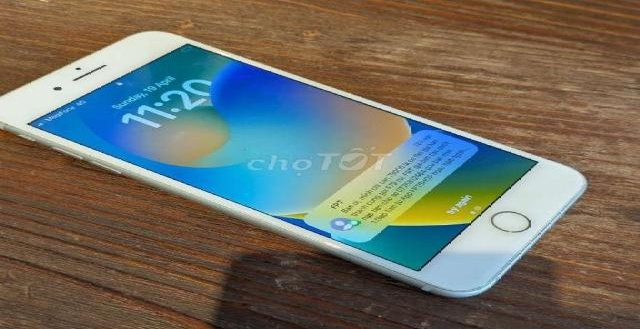scratch: (384, 264, 490, 296)
